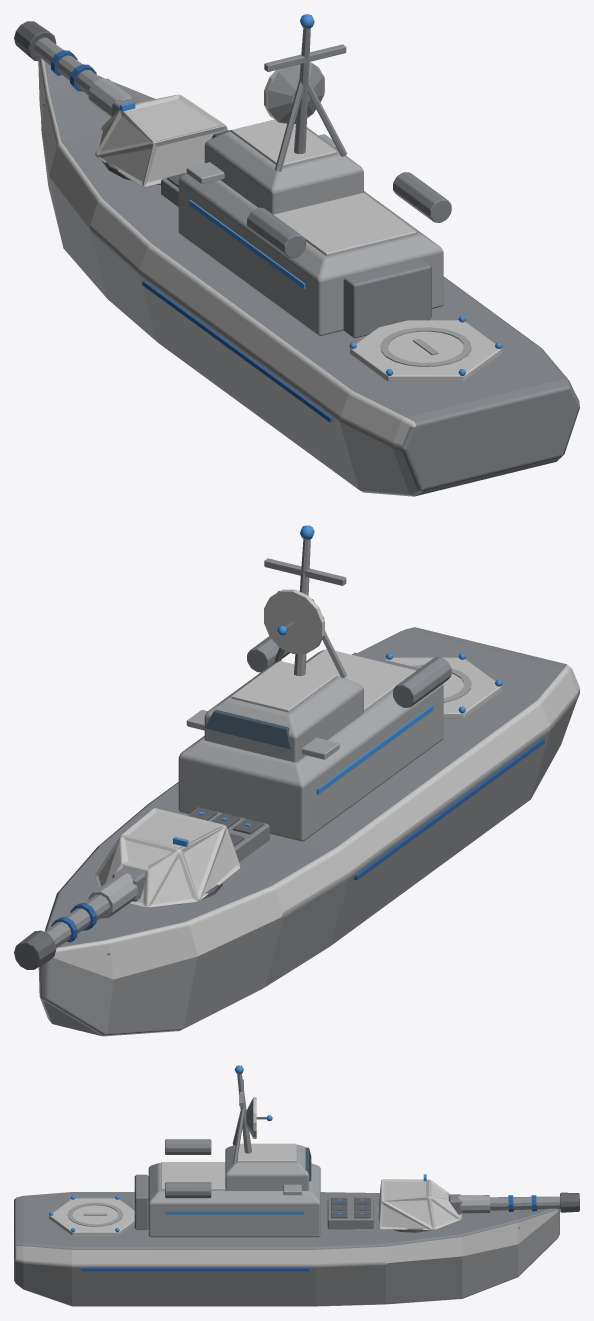
File: lattice_destroyer.glb
3 renders of one model, top to bottom at view 1: azimuth 30°, elevation 25°; view 2: azimuth 150°, elevation 25°; view 3: azimuth 270°, elevation 25°, orthographic. The views are drawn at different scales.
Visible parts, largest first — view 1: Body, Turret; view 2: Body, Turret; view 3: Body, Turret.
Part boxes in pixels (box(x1,y1,x2,y2)): Body: box(38, 14, 579, 496); Turret: box(14, 21, 228, 187); Body: box(38, 525, 579, 1036); Turret: box(14, 808, 240, 969); Body: box(14, 1065, 559, 1306); Turret: box(378, 1174, 579, 1232).
Size of the model in its own units: 0.6484 by 1.03 by 2.44.
